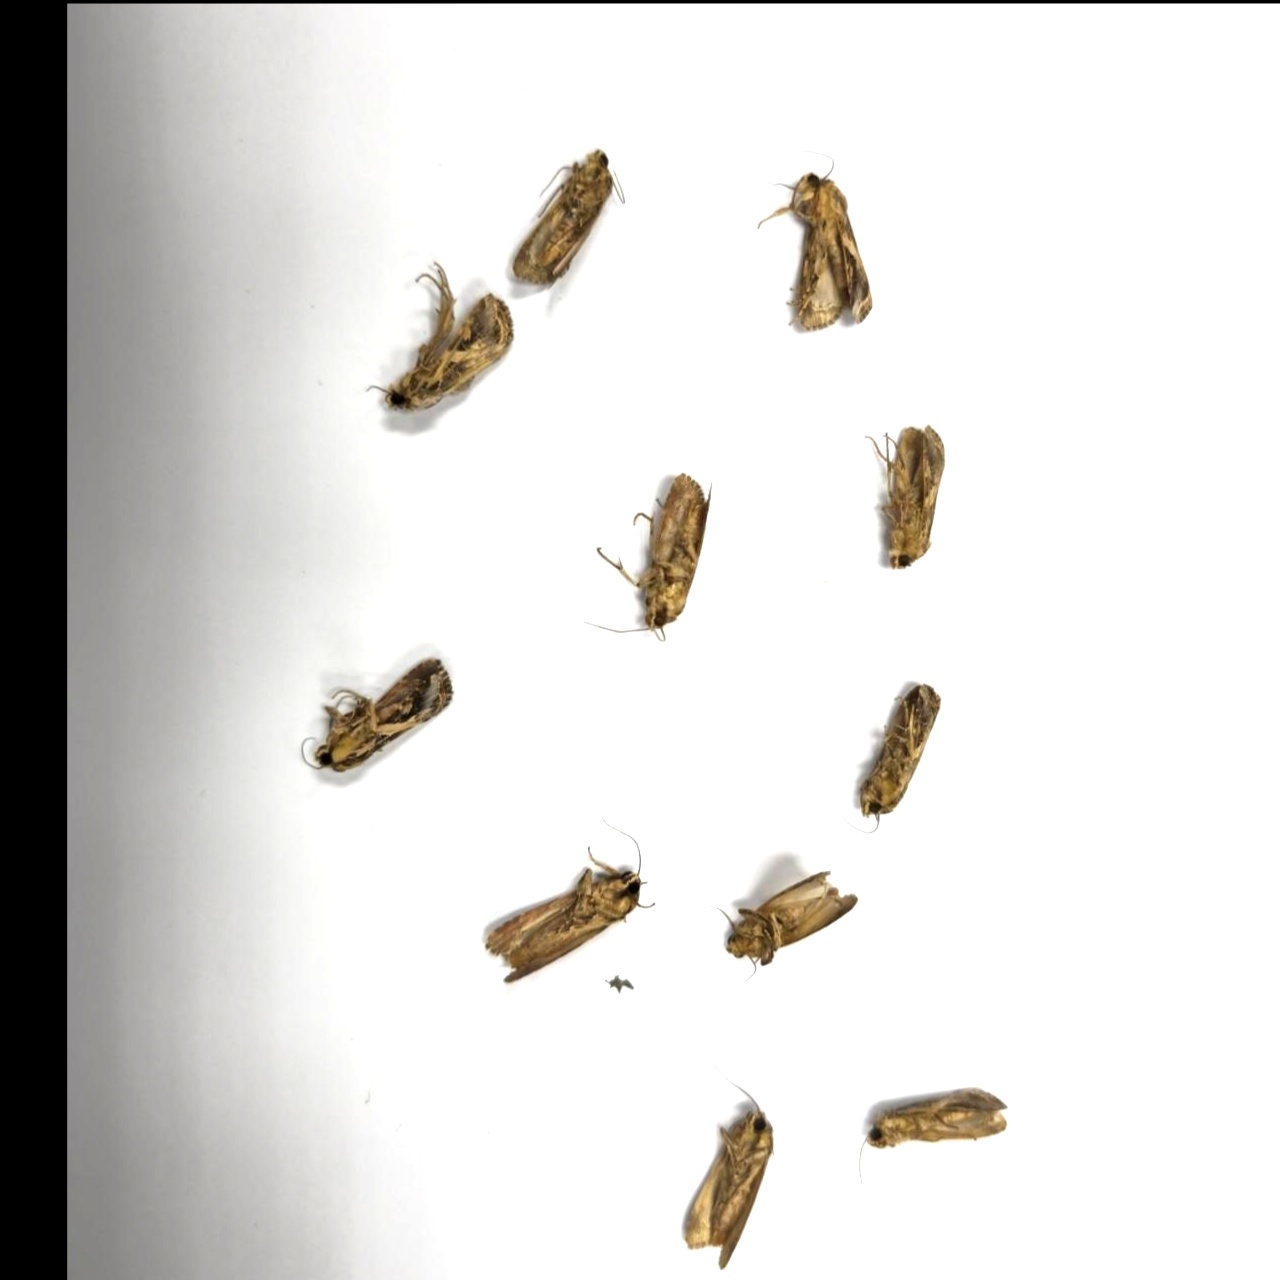Spodoptera litura: (486, 813, 658, 983), (365, 260, 513, 411), (583, 471, 712, 642), (755, 149, 873, 332), (685, 1058, 775, 1269), (697, 870, 858, 987), (858, 1087, 1008, 1206), (301, 658, 454, 772), (511, 147, 626, 286), (836, 682, 941, 833), (864, 422, 946, 570)
